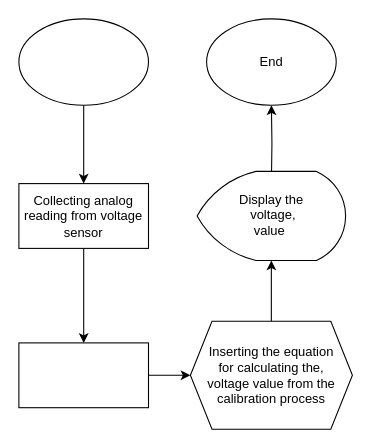
Some shapes in this 372 by 448 pixel diagram are drawn without their labels. The centre of each missing label's shape, as x and y in pixels:
Calibrating the analog reading and the experimental voltage data: pixel 83 375
Start: pixel 83 61
